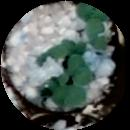Basil: (55, 85, 85, 105), (47, 40, 78, 59), (70, 58, 91, 83), (88, 25, 105, 48)
